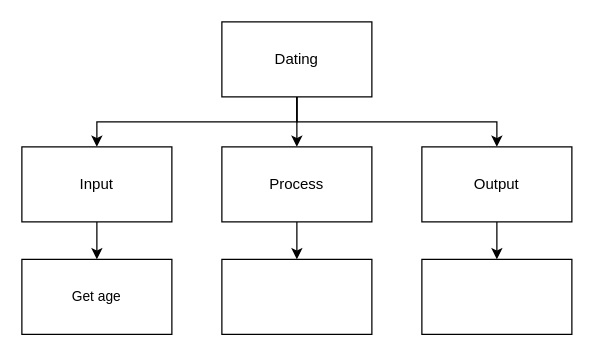
The diagram is 594 pixels wide and 356 high, and some of its shapes have lost their labels. The shapes that lost their labels are listed below. From the top down, each one's centre as x and y in pixels, then its label:
the point at 296,296: If age > 25 && age < 40
the point at 496,296: Print answer
